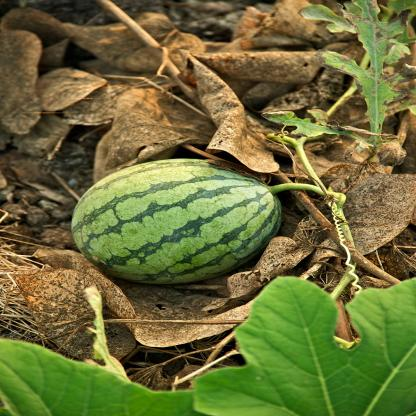--: (48, 154, 298, 299)
